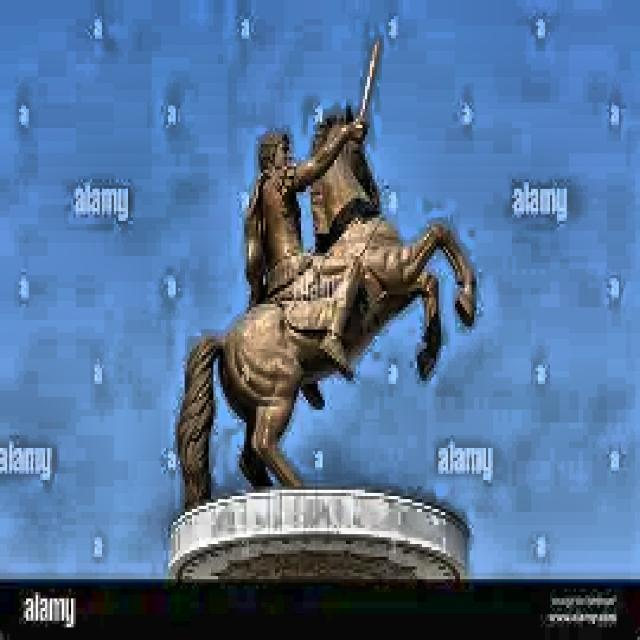alexander the great monument: (172, 34, 473, 576)
